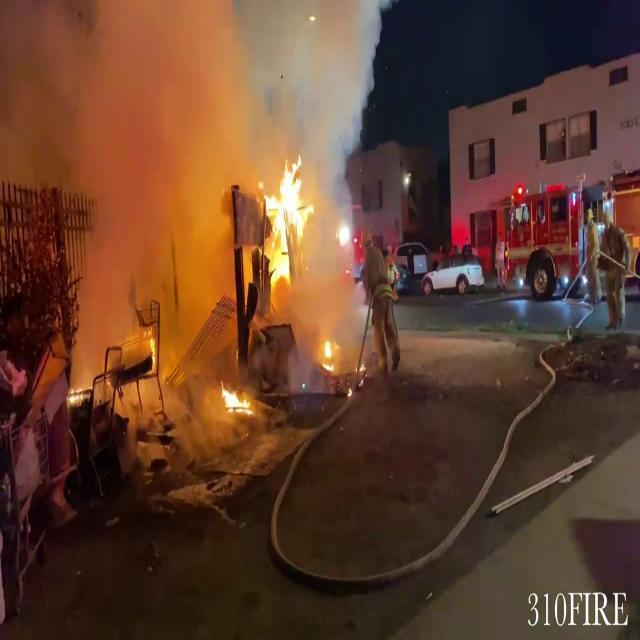Fire: (258, 152, 316, 285), (218, 376, 256, 419), (317, 334, 342, 374)
Smoke: (29, 0, 370, 353)
